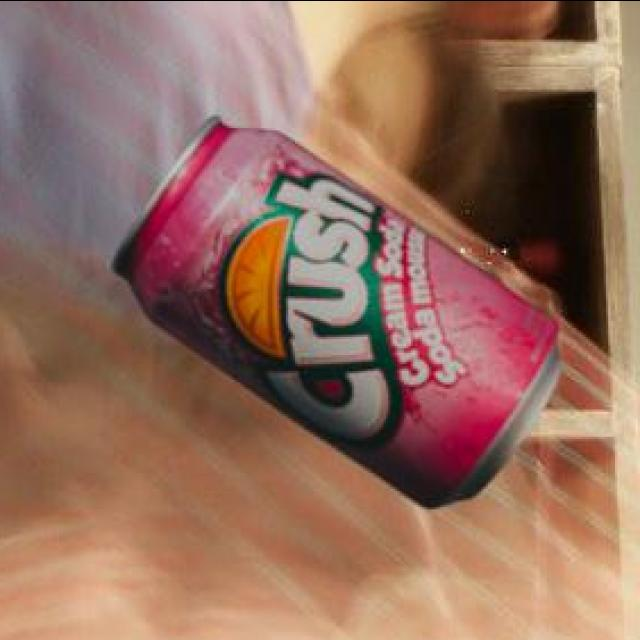logam: (117, 112, 564, 505)
